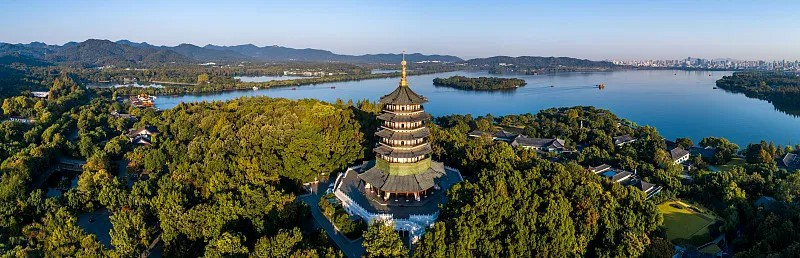Leifeng: (358, 52, 446, 207)
